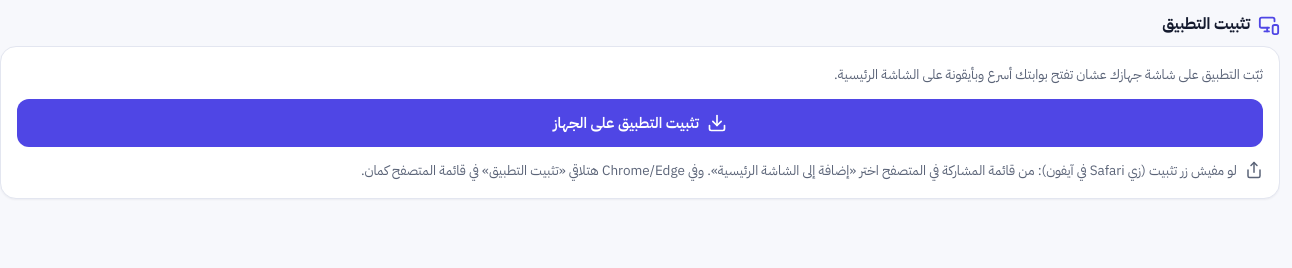
Test case: PortalInstallCard — تثبيت التطبيق في البوابة › زر تثبيت يعمل عندما يعرض المتصفح التثبيت
Step 1. Click the button "تثبيت التطبيق على الجهاز" → coordinates (640, 123), box left=17, top=99, right=1263, bottom=147
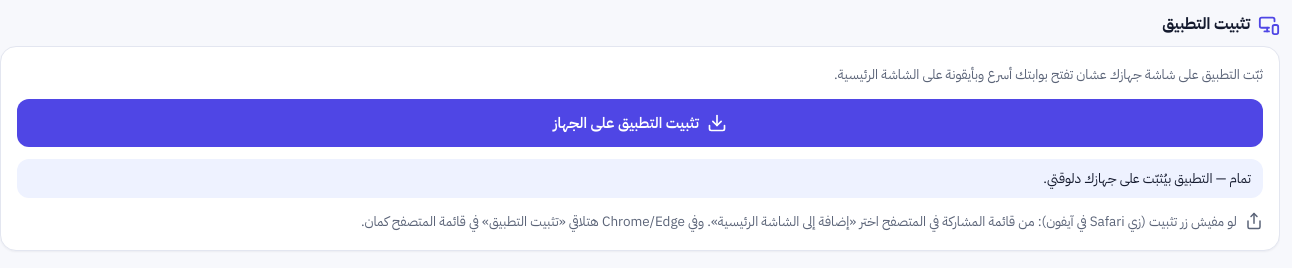
Expected: the text "تمام — التطبيق بيُثبّت على جهازك دلوقتي." is shown, left=17, top=159, right=1263, bottom=198
